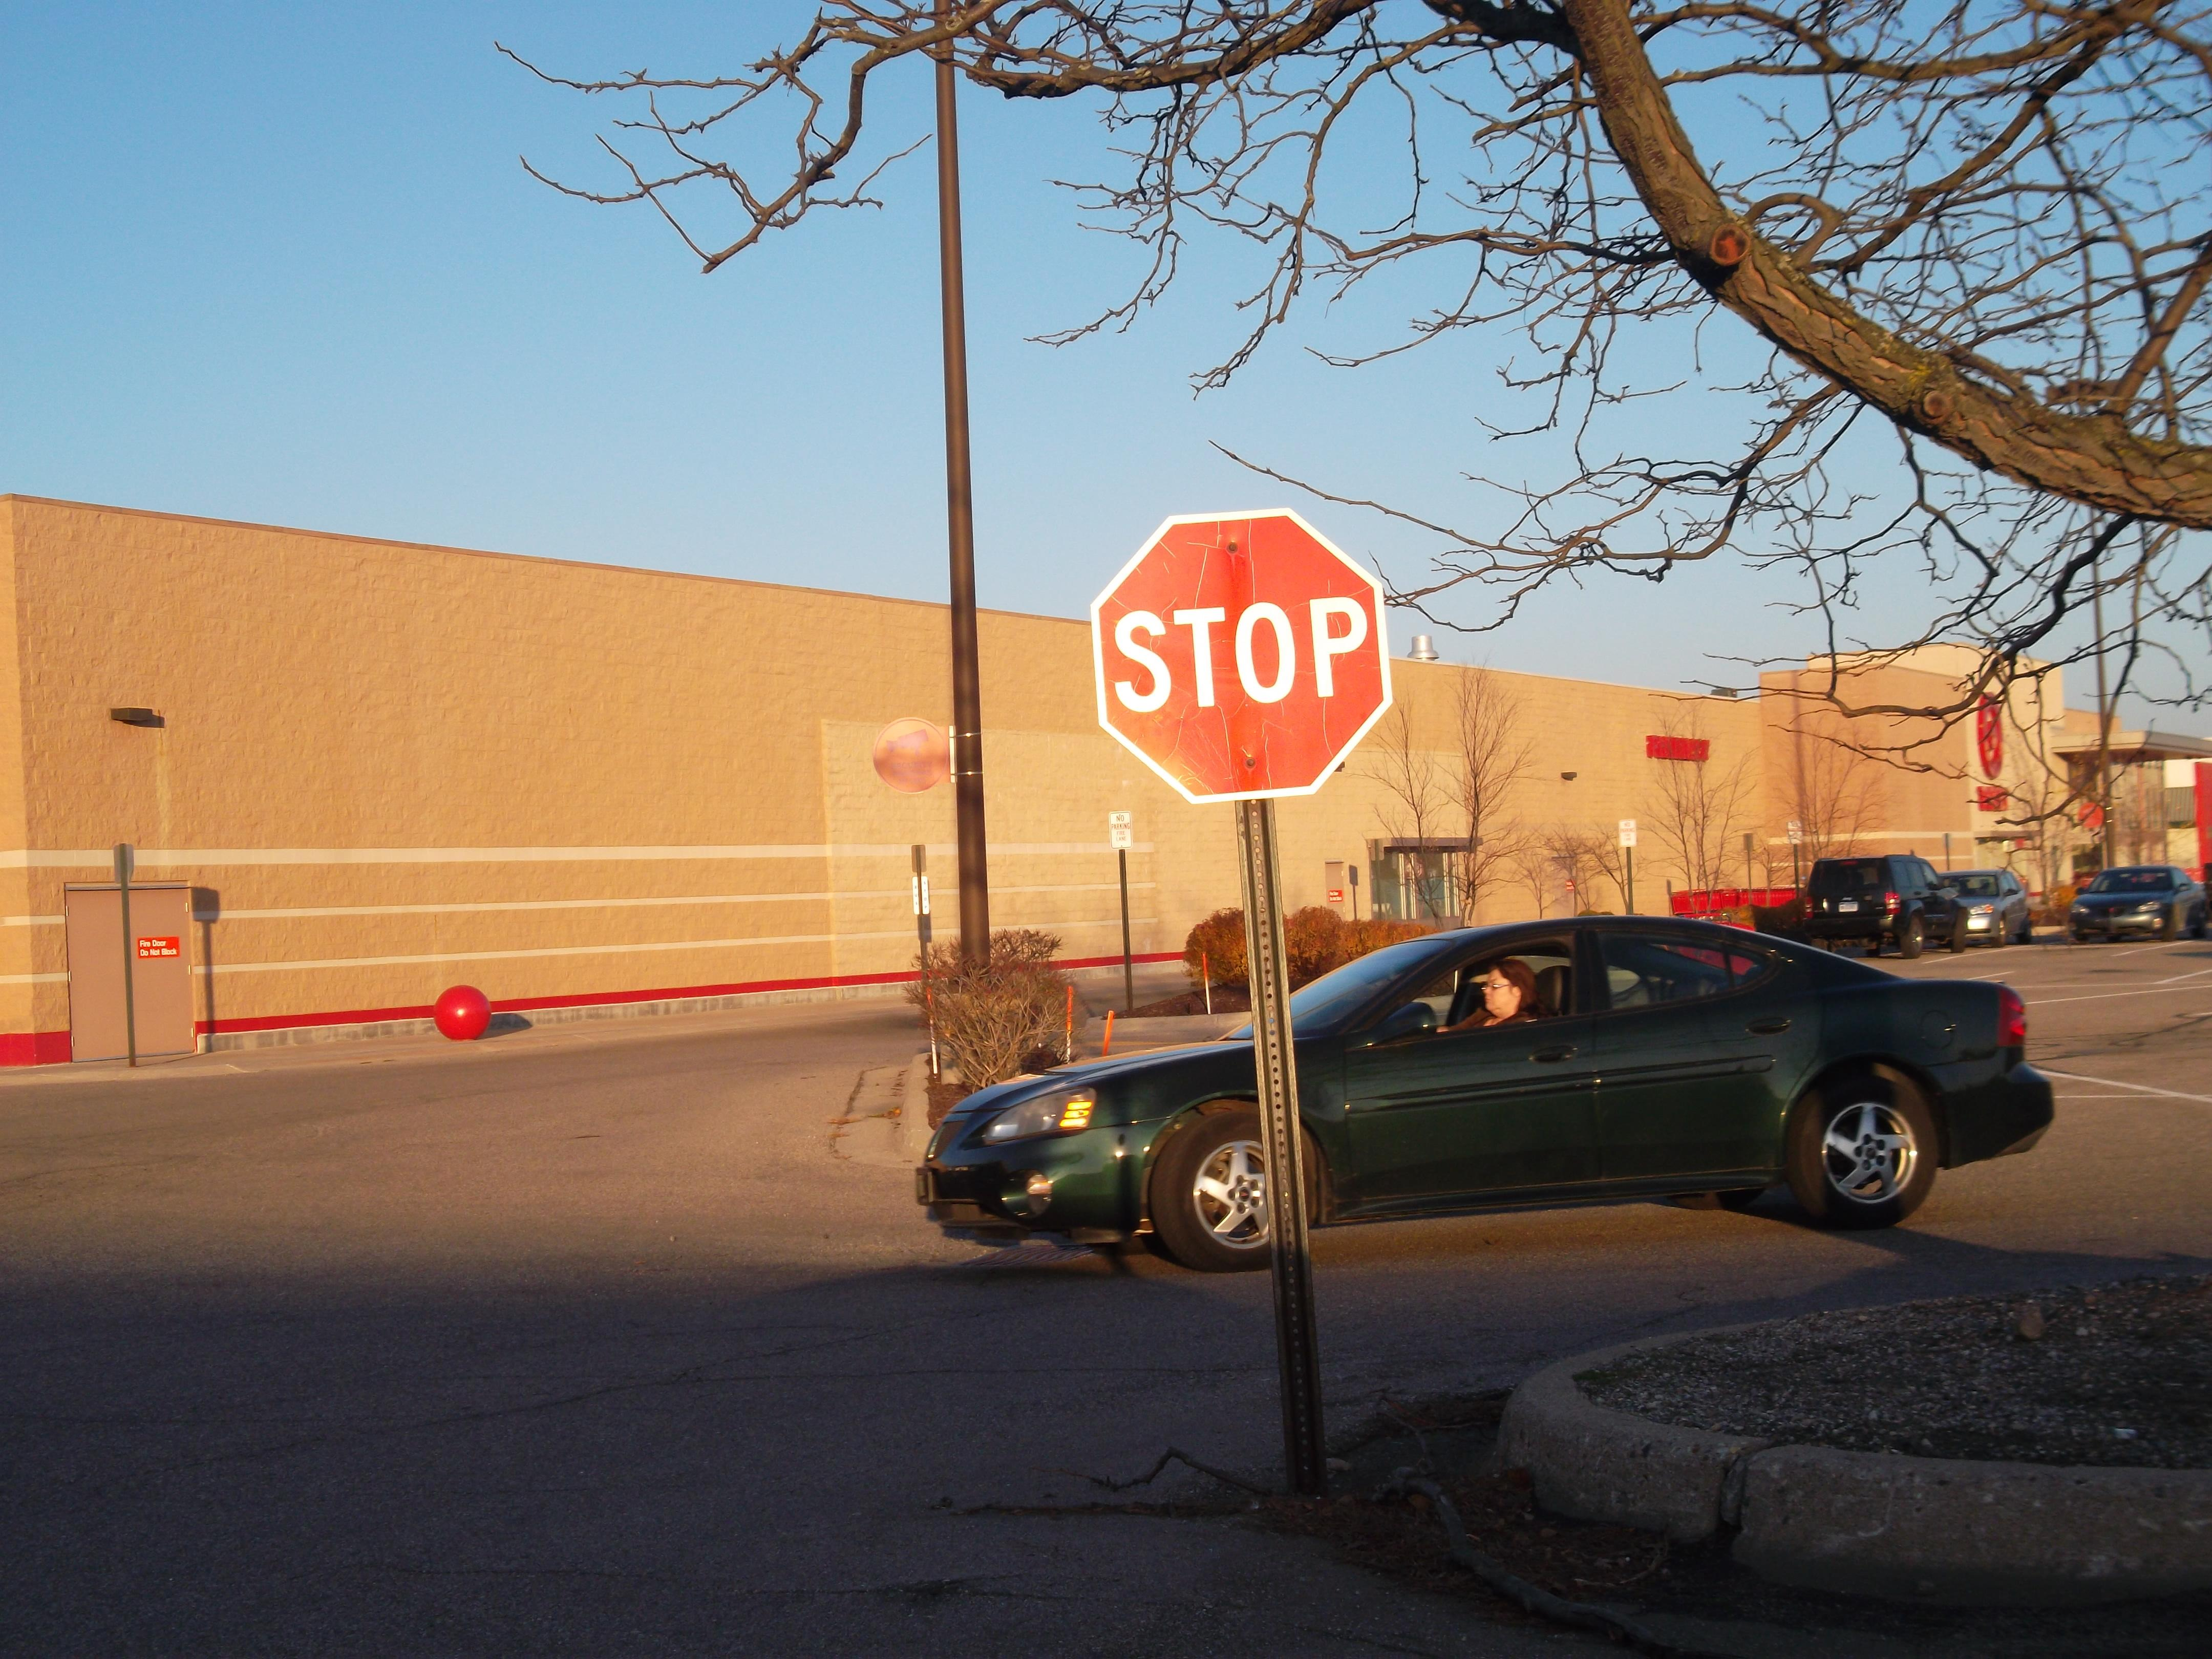stop: (1087, 504, 1404, 809)
